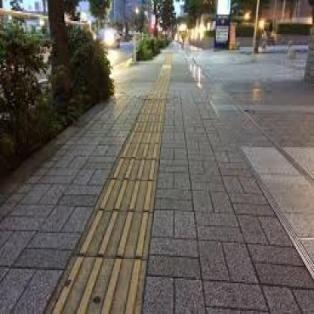Podoctatil: (44, 47, 170, 314)
